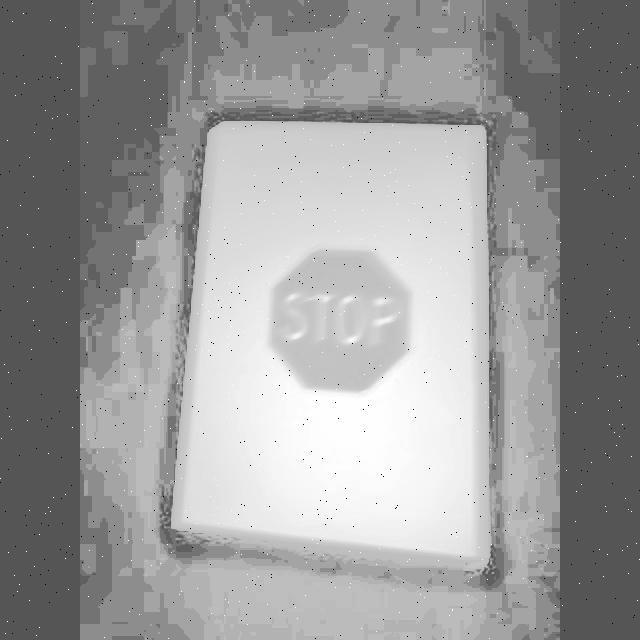STOP: (271, 238, 409, 388)
